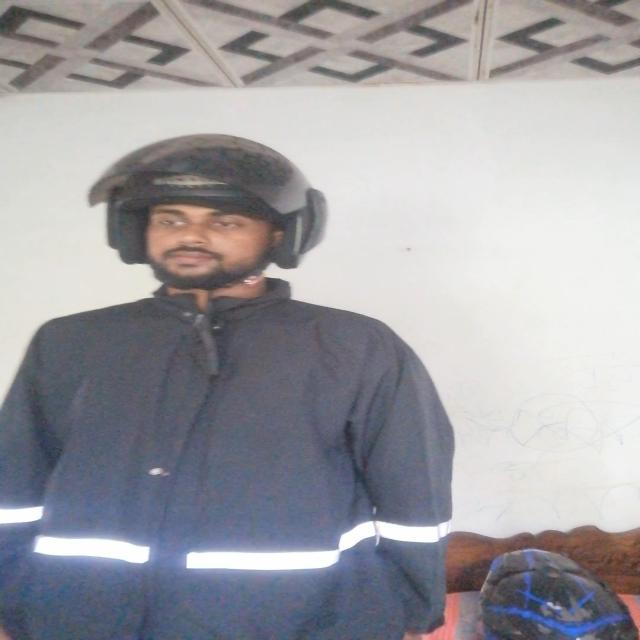Helmet_Wearer: (52, 133, 324, 306)
Jacket_Wearer: (12, 286, 452, 626)
Person: (4, 119, 444, 633)
